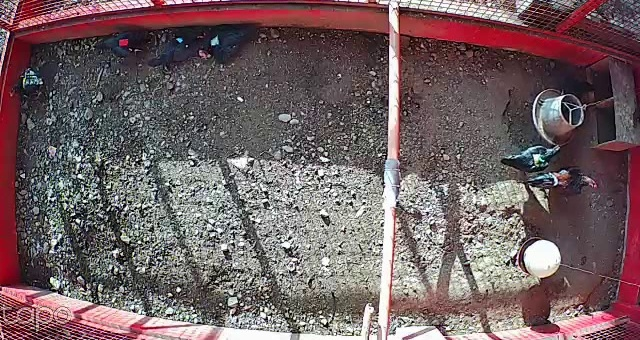Chicken: (195, 24, 263, 69), (148, 22, 213, 65), (4, 60, 62, 105), (496, 138, 564, 175), (93, 30, 153, 66)
Rooster: (520, 164, 603, 204)
Saddle_Color_Blue: (175, 36, 184, 43)
Saddle_Color_Red: (118, 39, 129, 47)
Saddle_Color_YellowGreen: (532, 152, 546, 166)
